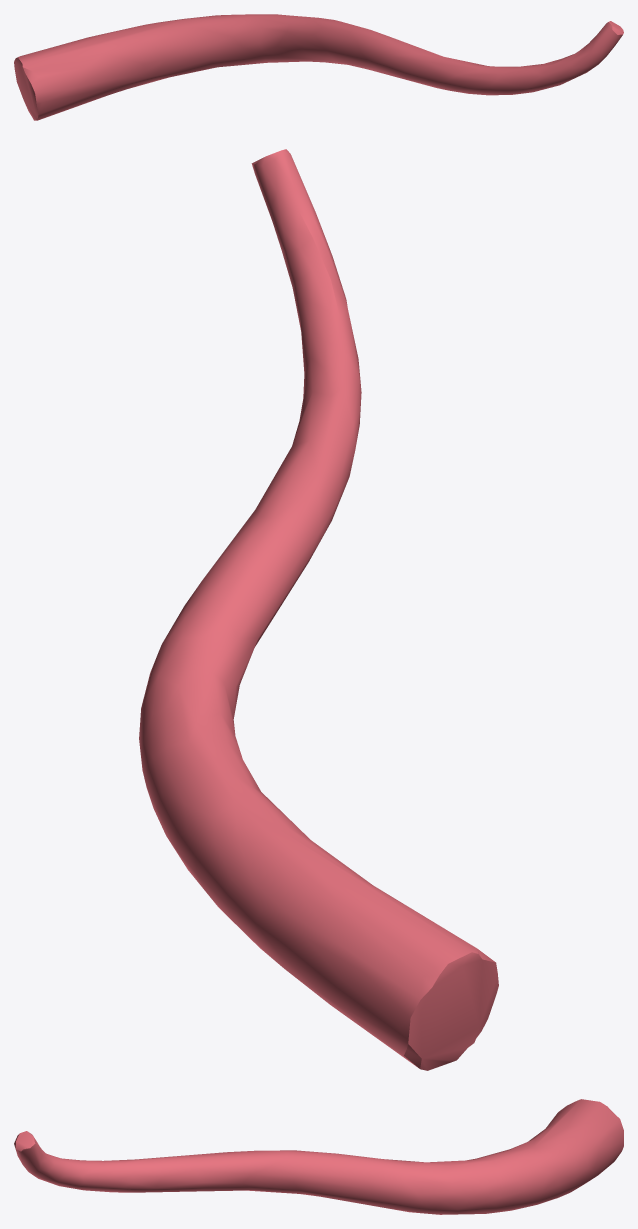
File: fma68131_fj5972.glb
3 renders of one model, top to bottom at view 1: azimuth 30°, elevation 25°; view 2: azimuth 150°, elevation 25°; view 3: azimuth 270°, elevation 25°, orthographic. The views are drawn at different scales.
Parts seen in each view (by area): view 1: FMA68131_FJ5972; view 2: FMA68131_FJ5972; view 3: FMA68131_FJ5972.
Boxes of the visible parts, <box> form: FMA68131_FJ5972: <box>14,14,623,120</box>; FMA68131_FJ5972: <box>139,149,498,1070</box>; FMA68131_FJ5972: <box>14,1099,623,1214</box>.
Bounding box in the file's own units: 0.0397 × 0.021 × 0.0522.
